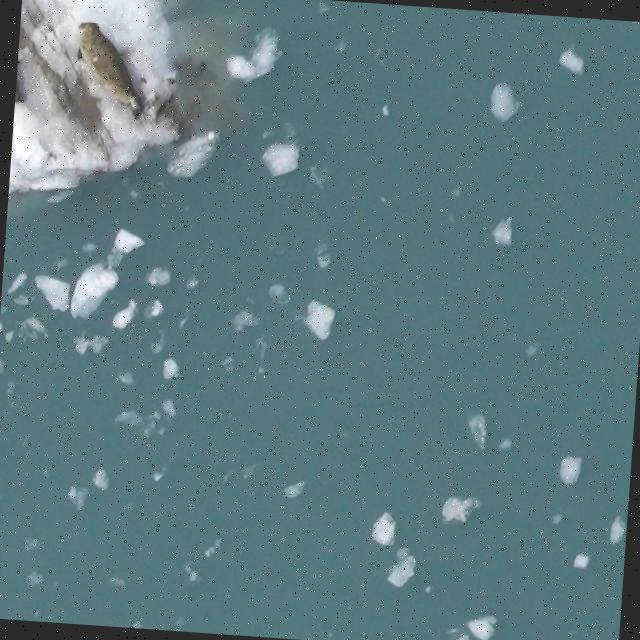seal: (79, 22, 144, 118)
